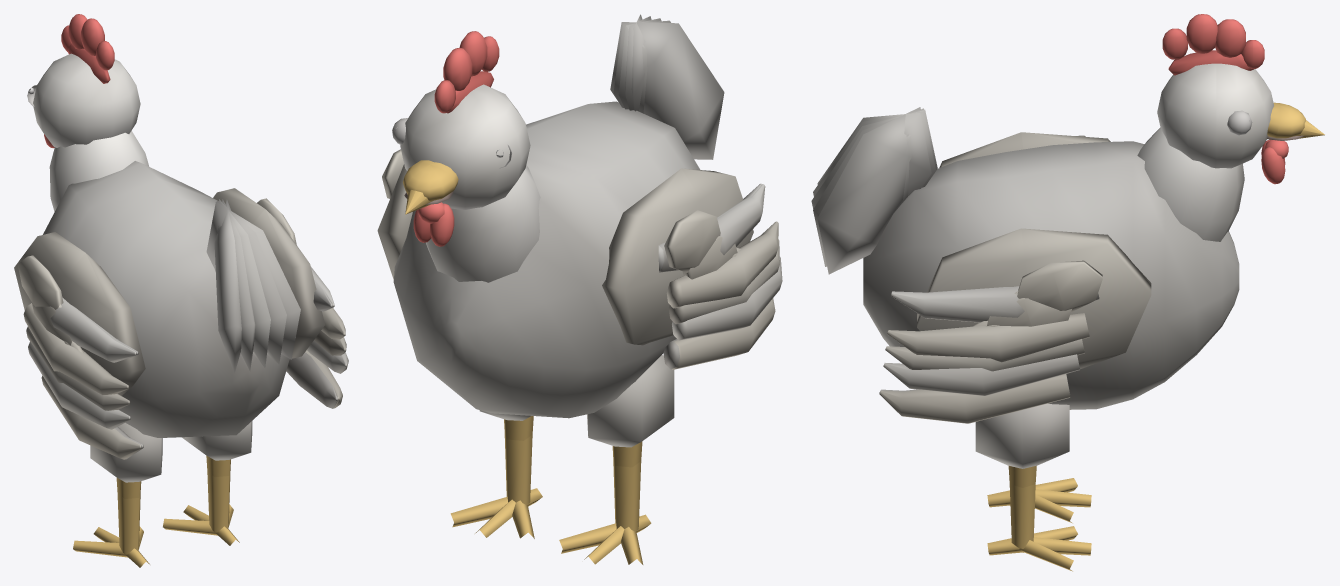
Rendered from rooster.glb.
The picture shows the model from 3 angles, left to right: view 1: azimuth 30°, elevation 25°; view 2: azimuth 150°, elevation 25°; view 3: azimuth 270°, elevation 25°; orthographic projection. The views are drawn at different scales.
Visible parts, largest first — view 1: body, head, leg_1, lower_0, lower_1, leg_0; view 2: body, head, leg_1, lower_0, lower_1, leg_0; view 3: body, head, leg_0, lower_0, lower_1.
Part boxes in pixels (bbox=[...]): body: bbox=[14, 161, 348, 459]; head: bbox=[27, 14, 148, 211]; leg_1: bbox=[90, 422, 162, 498]; lower_0: bbox=[163, 470, 239, 545]; lower_1: bbox=[73, 493, 149, 567]; leg_0: bbox=[182, 421, 252, 476]; body: bbox=[377, 14, 782, 418]; head: bbox=[392, 31, 540, 282]; leg_1: bbox=[587, 355, 674, 467]; lower_0: bbox=[450, 433, 542, 538]; lower_1: bbox=[559, 459, 651, 564]; leg_0: bbox=[479, 410, 533, 440]; body: bbox=[811, 107, 1239, 423]; head: bbox=[1137, 14, 1324, 241]; leg_0: bbox=[975, 403, 1069, 487]; lower_0: bbox=[987, 484, 1091, 571]; lower_1: bbox=[987, 478, 1091, 523].
Bounding box in the file's own units: 0.2988 × 0.501 × 0.4513.
